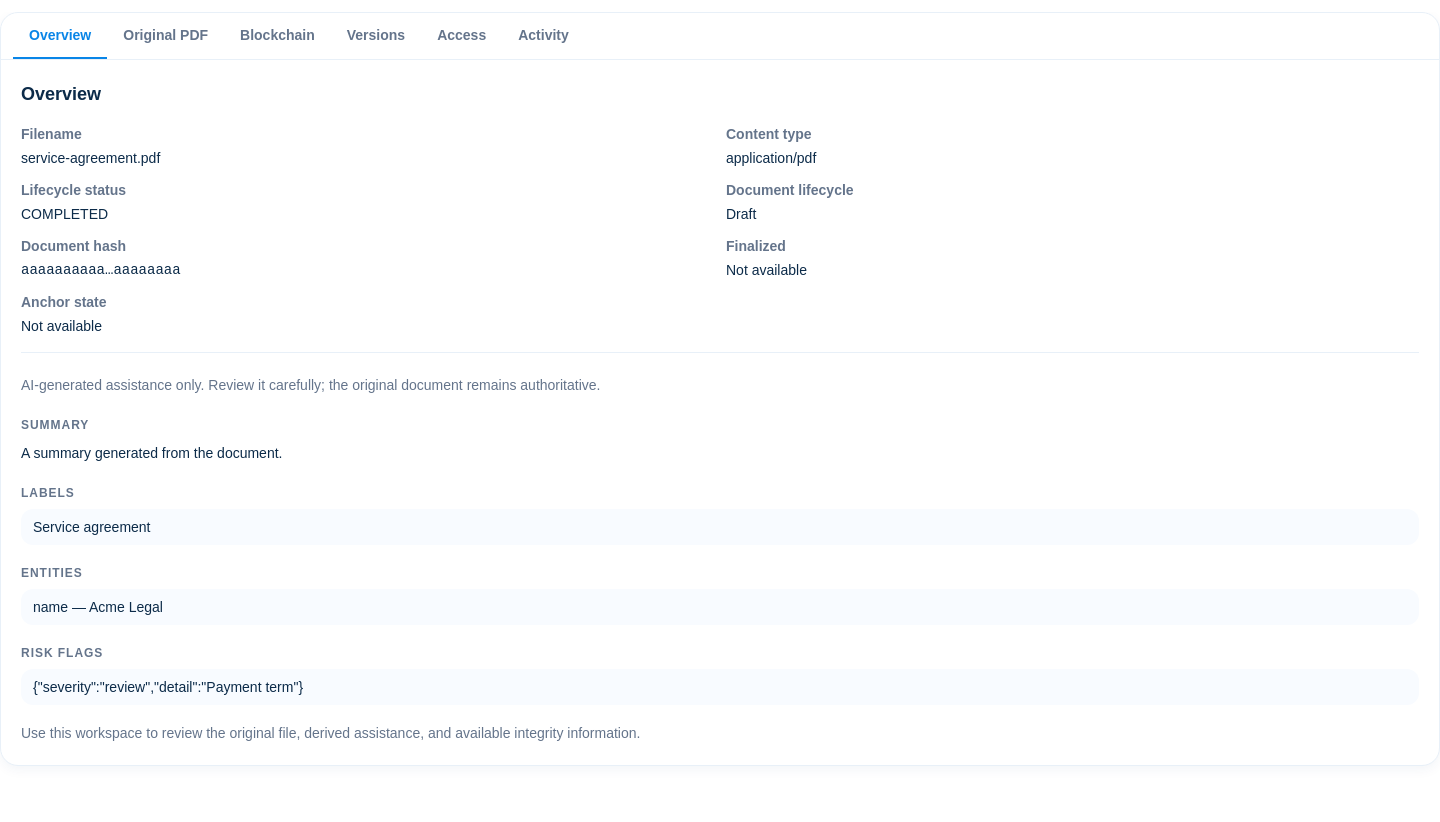
DocumentWorkspace › renders a mismatched integrity record with the warning treatment
The image size is (1440, 822).
Step 1. Click the tab "Blockchain" → click(277, 36), box [224,13,331,59]
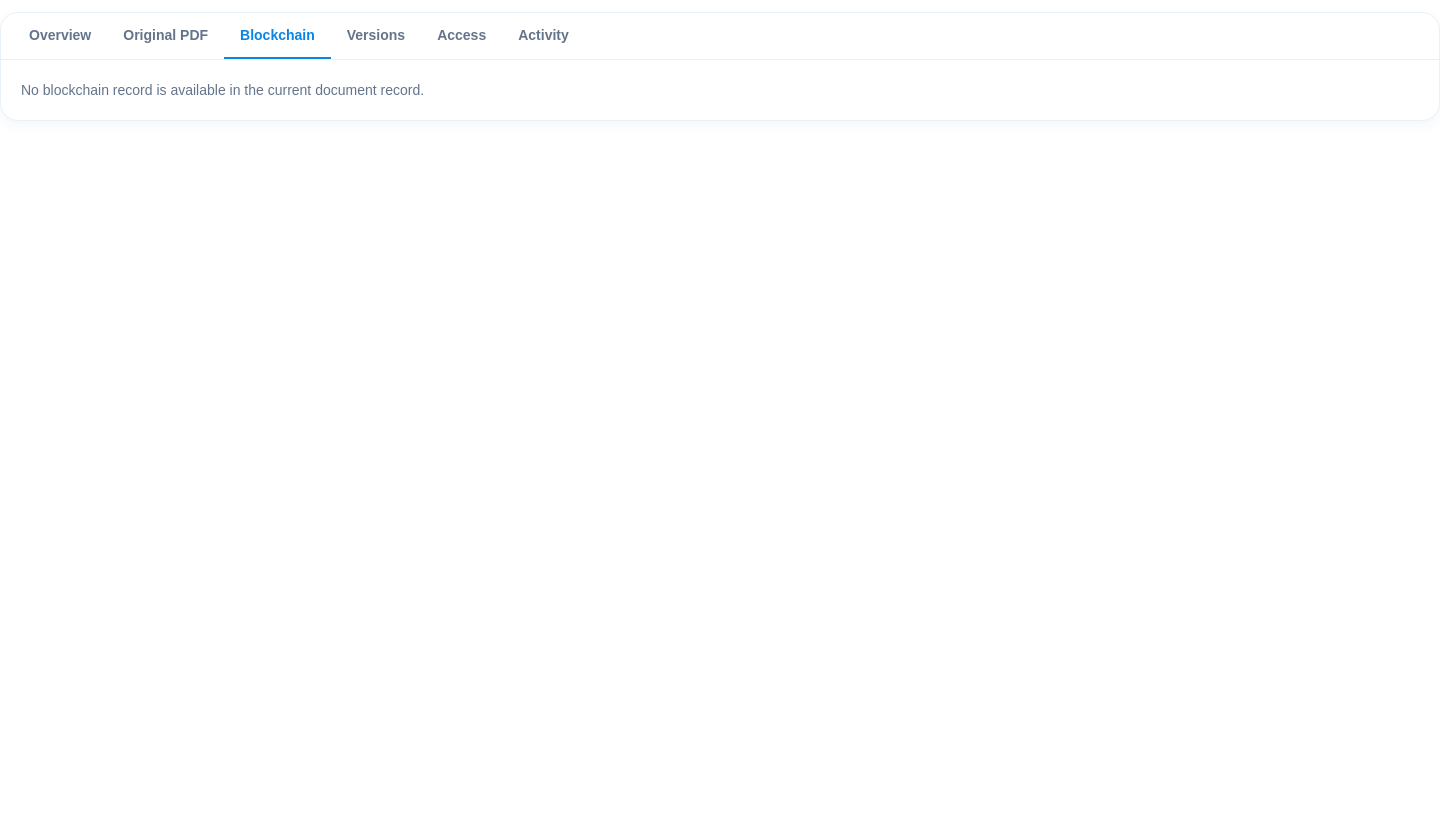
Now the text "No blockchain record is available in the current document record." is shown, box [21,82,424,98]
